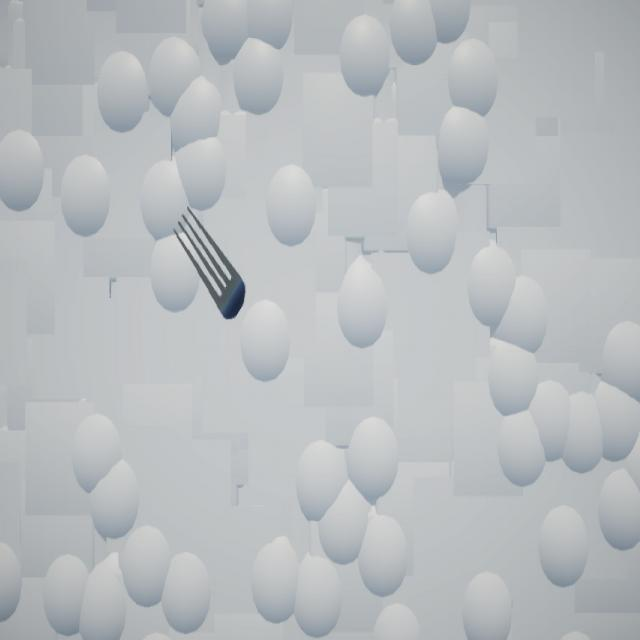top_folk: (174, 207, 247, 321)
